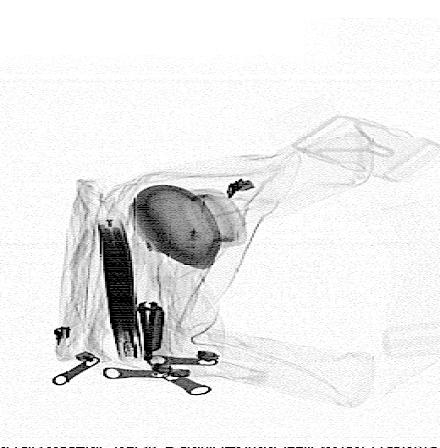Powerbank: (94, 215, 145, 362)
